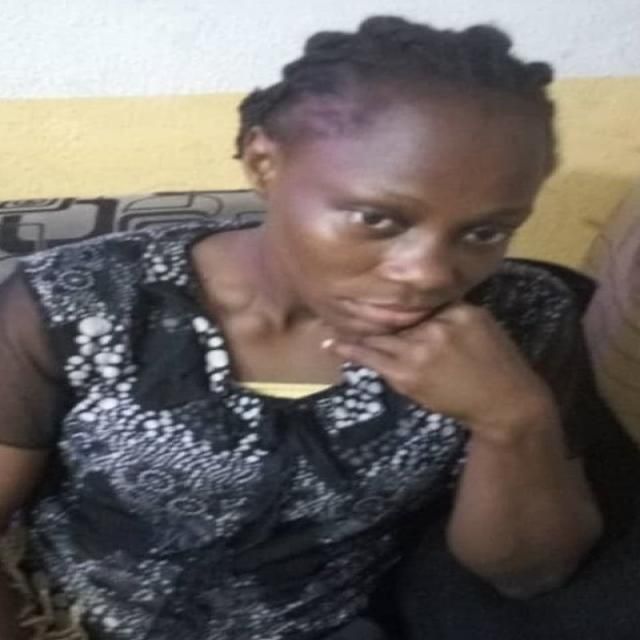sad: (232, 72, 571, 344)
